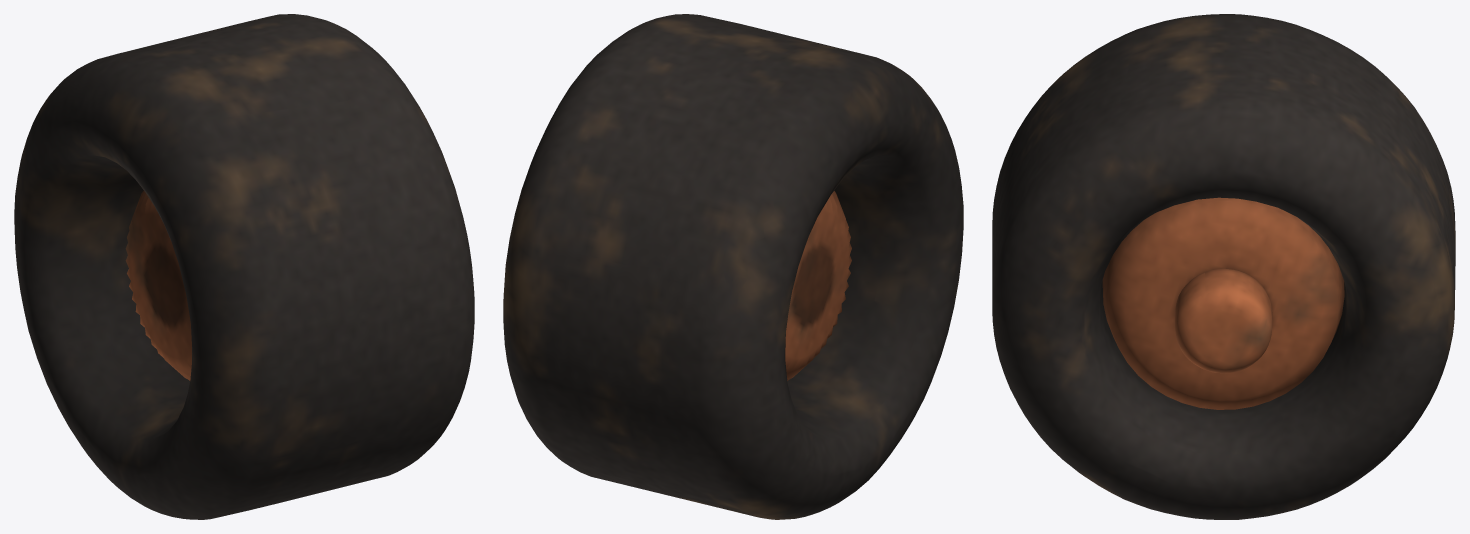
3 renders of one model, left to right at view 1: azimuth 30°, elevation 25°; view 2: azimuth 150°, elevation 25°; view 3: azimuth 270°, elevation 25°, orthographic. The views are drawn at different scales.
Visible parts, largest first — view 1: wheel_RL; view 2: wheel_RL; view 3: wheel_RL.
Part boxes in pixels (<box>): wheel_RL: <box>14,14,474,519</box>; wheel_RL: <box>503,14,963,519</box>; wheel_RL: <box>992,14,1455,519</box>.
Bounding box in the file's own units: 0.1965 × 0.2893 × 0.2894.
1 material, 1 textured.
